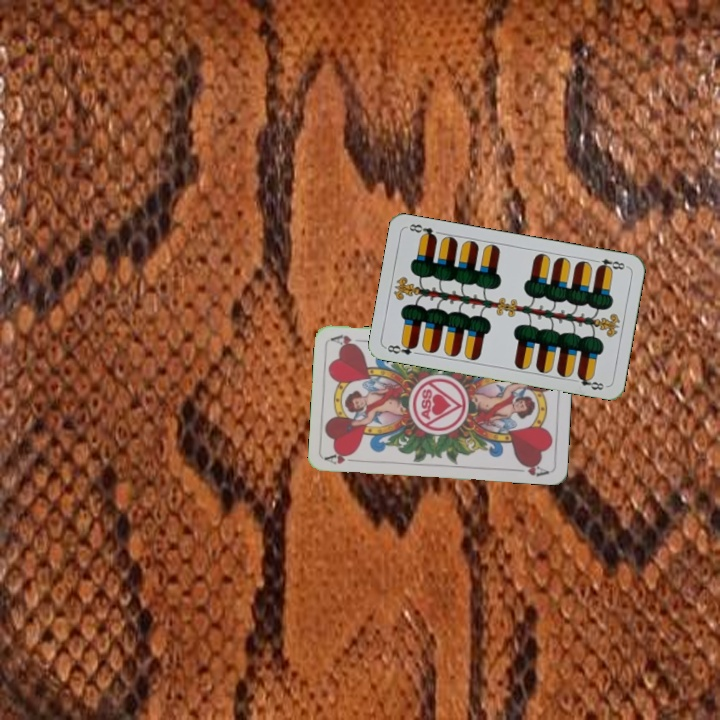E8: (382, 339, 423, 357), (589, 255, 629, 273)
HA: (322, 449, 363, 467)
